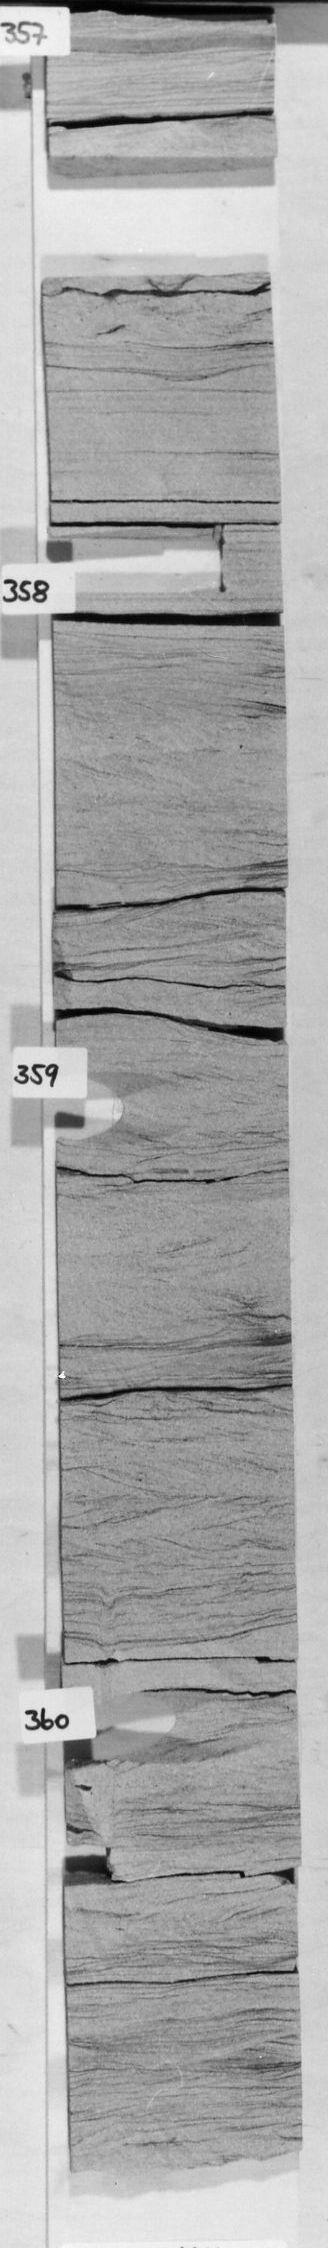hplug: (49, 518, 236, 604), (54, 1068, 205, 1151), (67, 1690, 195, 1771)
scal: (46, 133, 271, 295)
